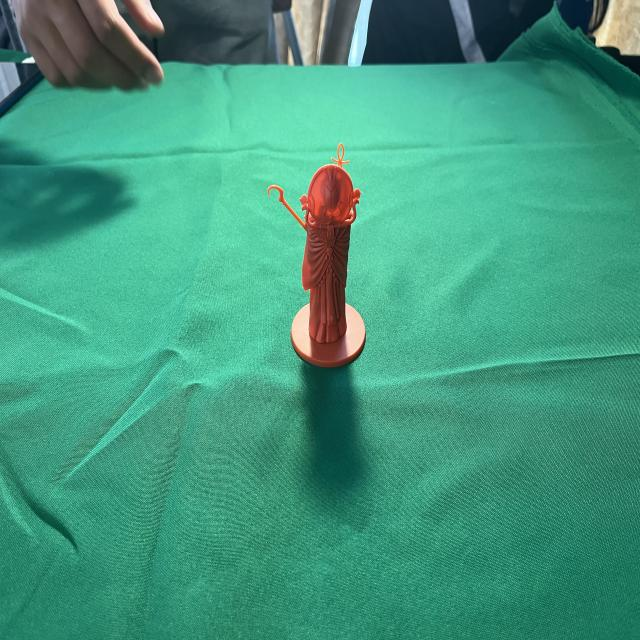amon: (264, 138, 369, 375)
